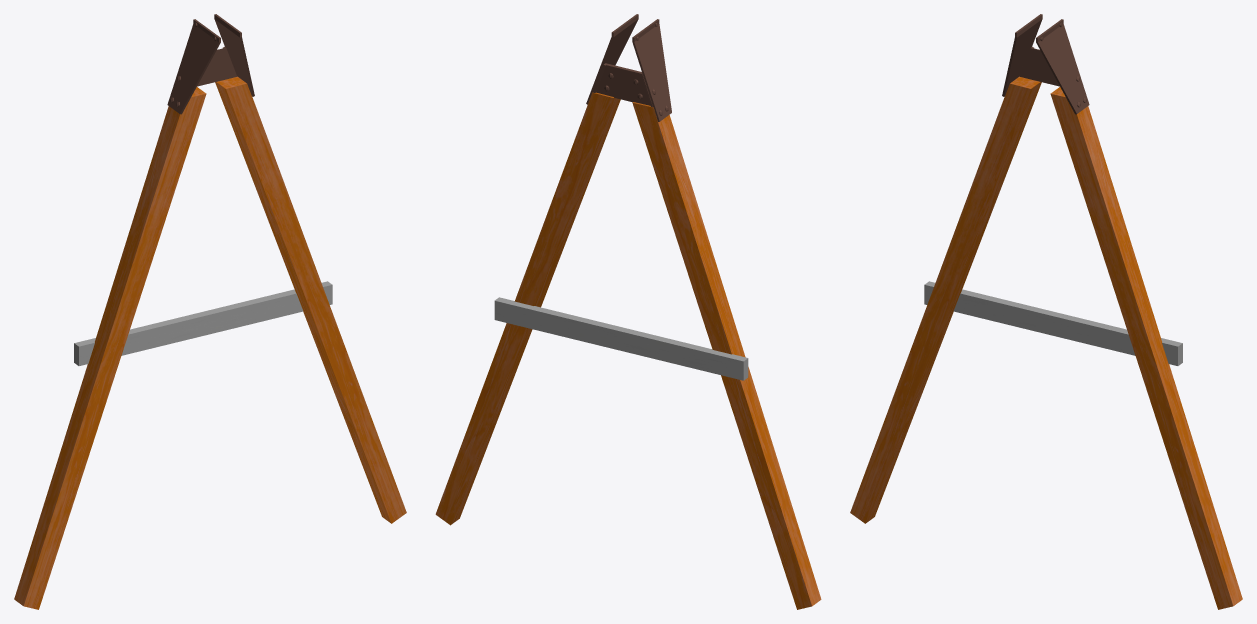
The model's file is Swing A-frame 8ft.glb.
3 views of the same model, side by side, from view 1: azimuth 30°, elevation 25°; view 2: azimuth 150°, elevation 25°; view 3: azimuth 330°, elevation 25° (orthographic).
Visible parts, largest first — view 1: Swing A frame 8ft; view 2: Swing A frame 8ft; view 3: Swing A frame 8ft.
Boxes of the visible parts, x1,y1,x2,y2 form: Swing A frame 8ft: (14,14,406,609); Swing A frame 8ft: (435,14,821,609); Swing A frame 8ft: (850,14,1242,609).
Size of the model in its own units: 1.95 by 2.64 by 0.26.
1 material, 1 textured.
